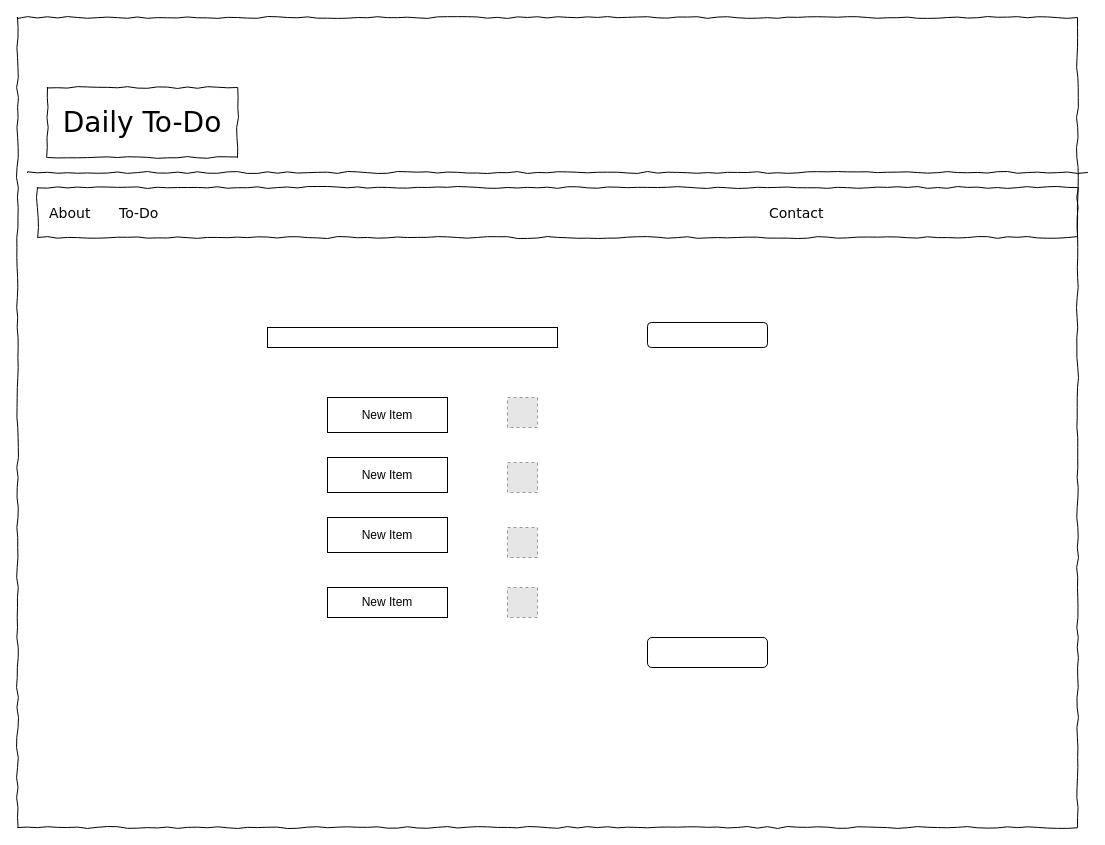
This 1105x845 diagram has some shape labels left out. Grey dashed boxes stand in for pictures. Each missing label, with the box of its shape:
Add New Item: (646, 322, 768, 348)
New Task......: (266, 326, 558, 348)
Save: (646, 636, 768, 668)
